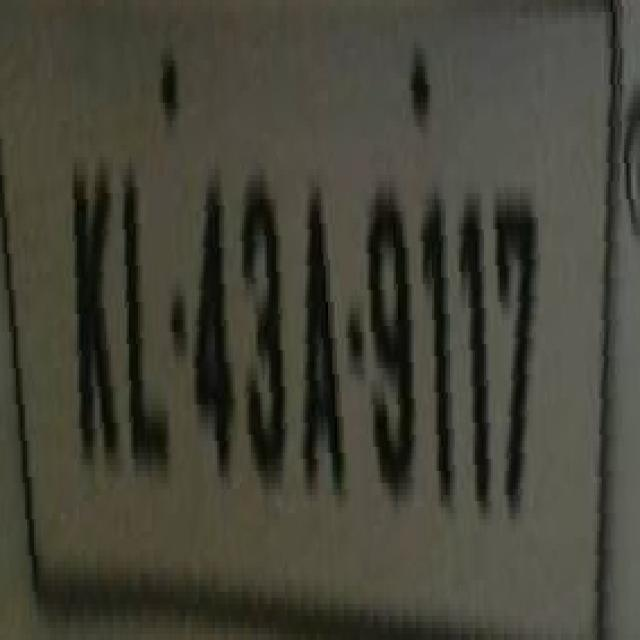license_plate: (22, 30, 640, 579)
